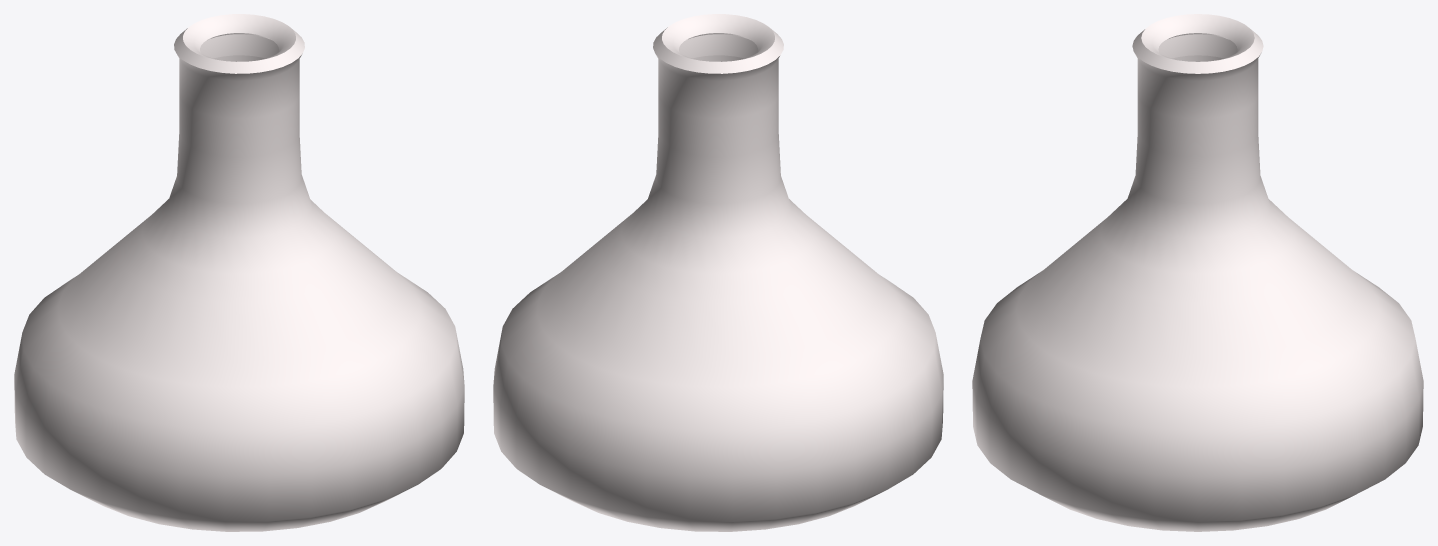
File: static.glb
3 renders of one model, left to right at view 1: azimuth 30°, elevation 25°; view 2: azimuth 150°, elevation 25°; view 3: azimuth 270°, elevation 25°, orthographic.
Parts seen in each view (by area): view 1: Lathe_3; view 2: Lathe_3; view 3: Lathe_3.
Part boxes in pixels (x1,y1,x2,y2): Lathe_3: (14,14,464,531); Lathe_3: (493,14,943,531); Lathe_3: (972,14,1423,531).
Size of the model in its own units: 0.6938 by 0.7088 by 0.6938.
Materials: 2 (2 with a texture image).
